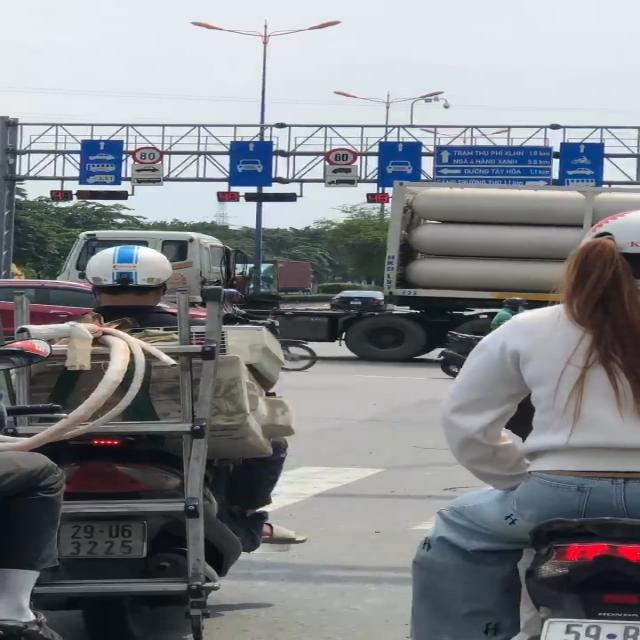Bien bao toc do toi da cho phep: (128, 142, 164, 166), (326, 145, 359, 167)
